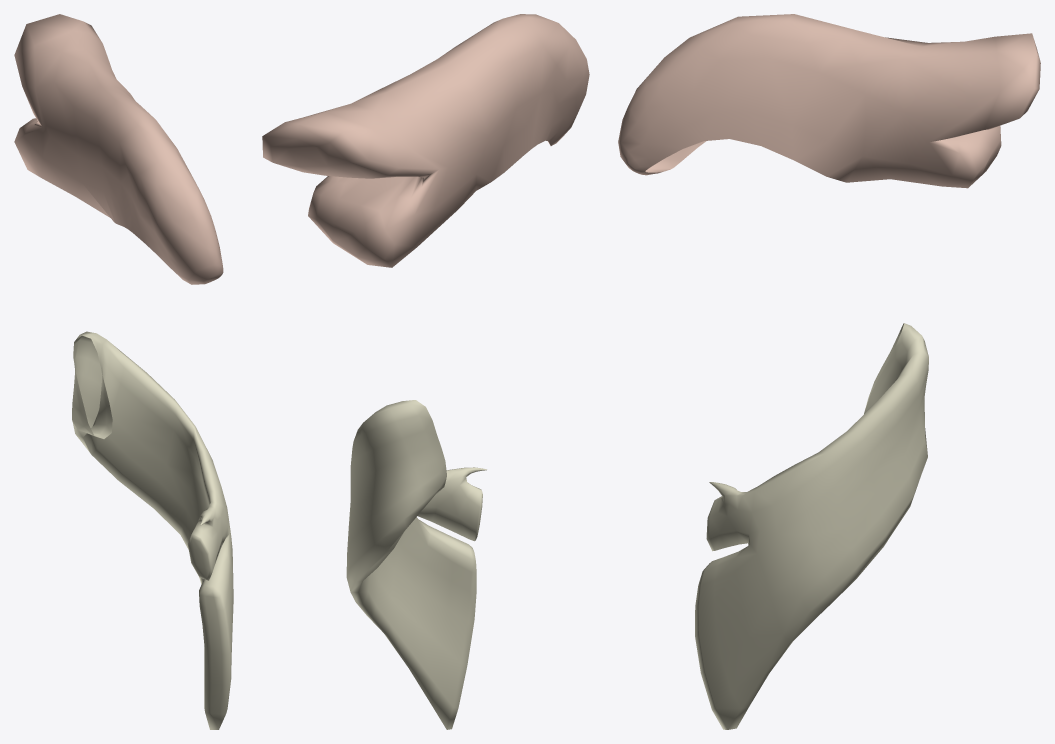
File: Mane_15.fbx
The picture shows the model from 3 angles, left to right: view 1: azimuth 30°, elevation 25°; view 2: azimuth 150°, elevation 25°; view 3: azimuth 270°, elevation 25°; orthographic projection. The views are drawn at different scales.
Parts seen in each view (by area): view 1: Mane_15; view 2: Mane_15; view 3: Mane_15.
Boxes of the visible parts, x1,y1,x2,y2 form: Mane_15: [14, 14, 233, 729]; Mane_15: [262, 14, 589, 729]; Mane_15: [618, 14, 1040, 729].
Size of the model in its own units: 67.06 by 306 by 172.
